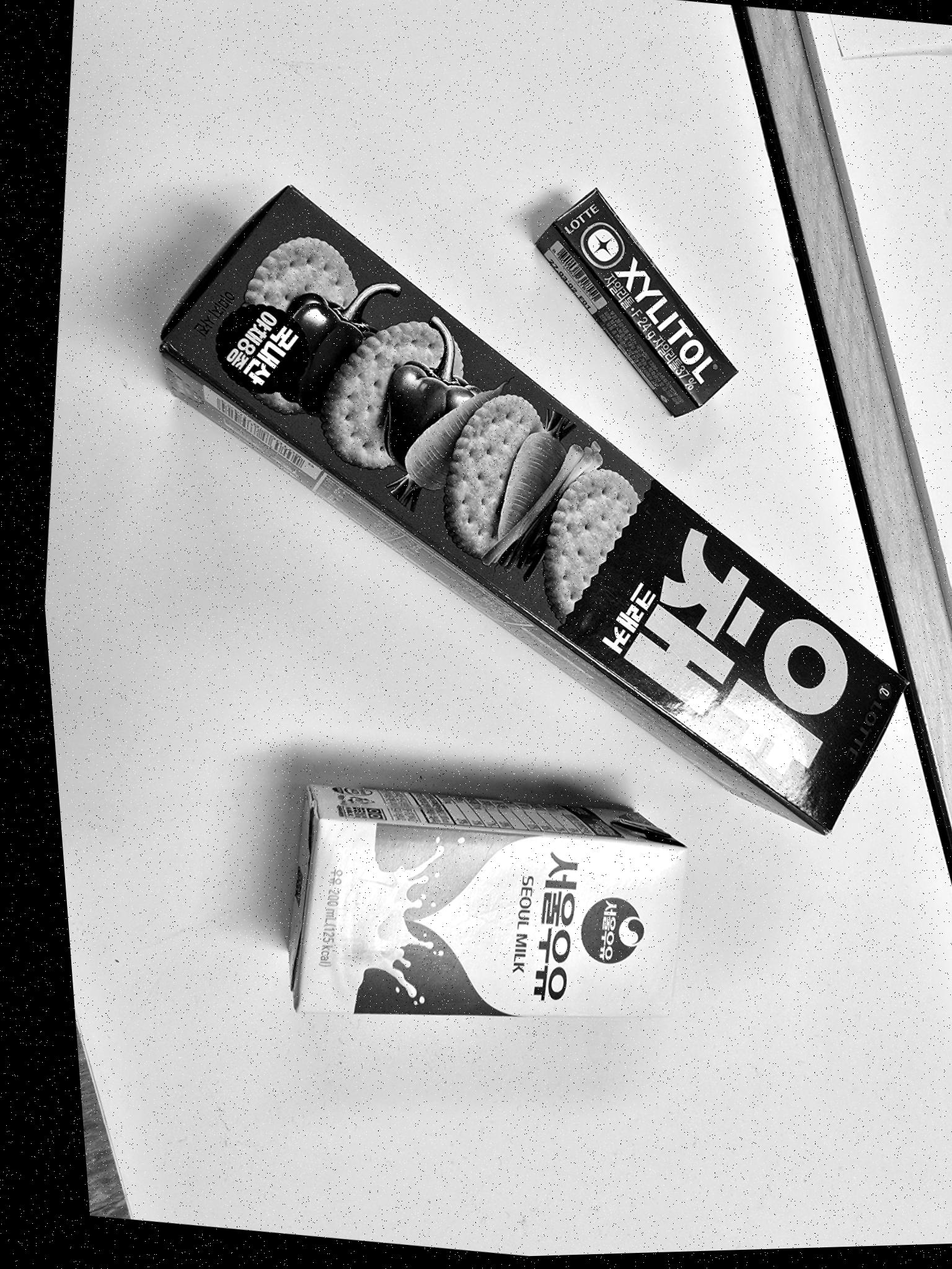cracker_vege: (162, 186, 903, 831)
gum_green: (537, 189, 736, 416)
milk_green: (290, 786, 686, 1016)
